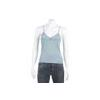canottiera: (40, 26, 60, 64)
